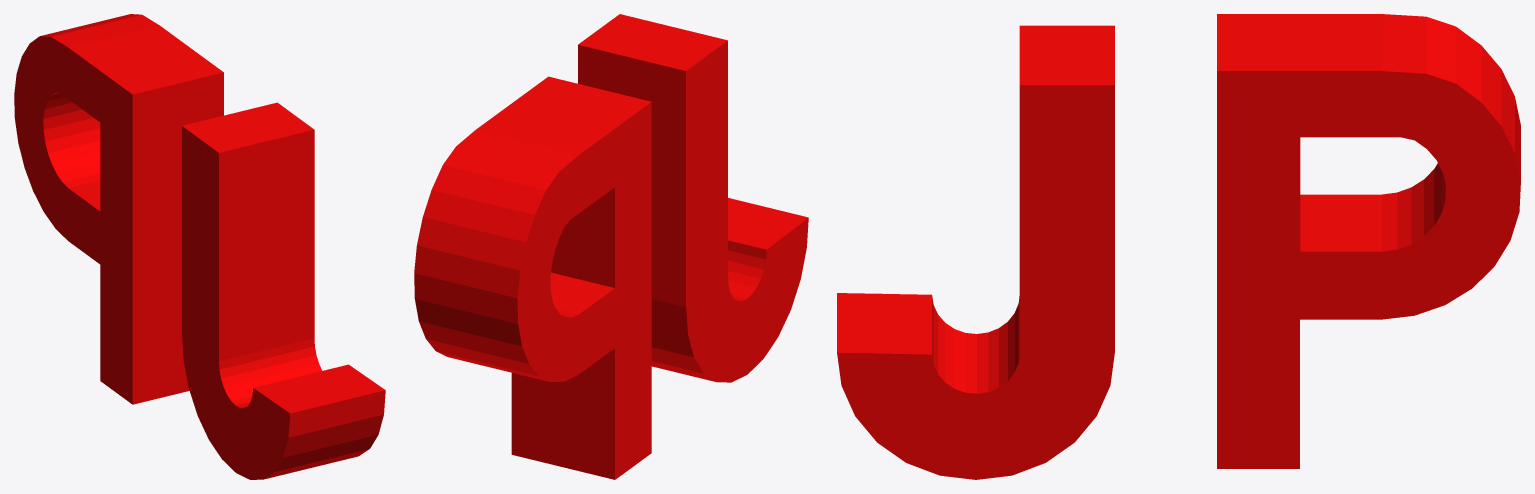
File: JP letters.fbx
3 views of the same model, side by side, from view 1: azimuth 30°, elevation 25°; view 2: azimuth 150°, elevation 25°; view 3: azimuth 270°, elevation 25° (orthographic). The views are drawn at different scales.
Visible parts, largest first — view 1: JP letters; view 2: JP letters; view 3: JP letters.
Part boxes in pixels (x1,y1,x2,y2): JP letters: (14, 14, 385, 479); JP letters: (414, 14, 808, 479); JP letters: (837, 14, 1520, 479).
Size of the model in its own units: 116 by 329 by 510.
